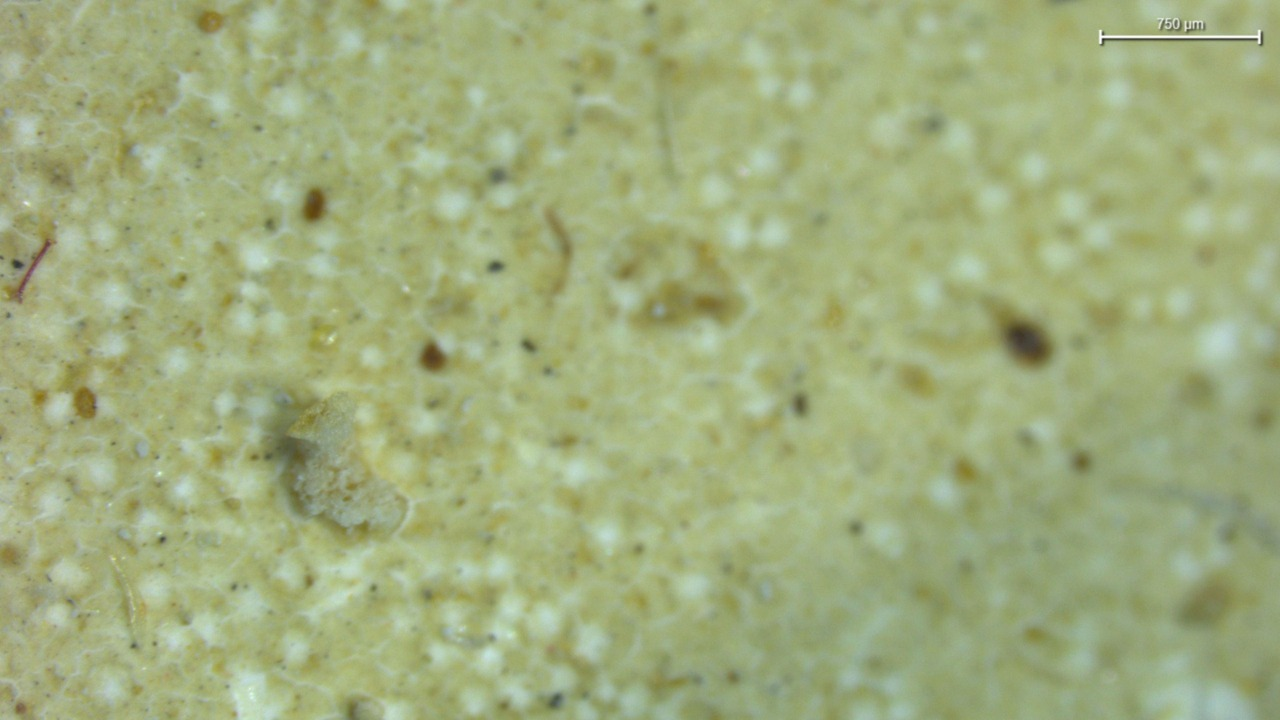microplastic_fragment: (282, 391, 415, 541)
